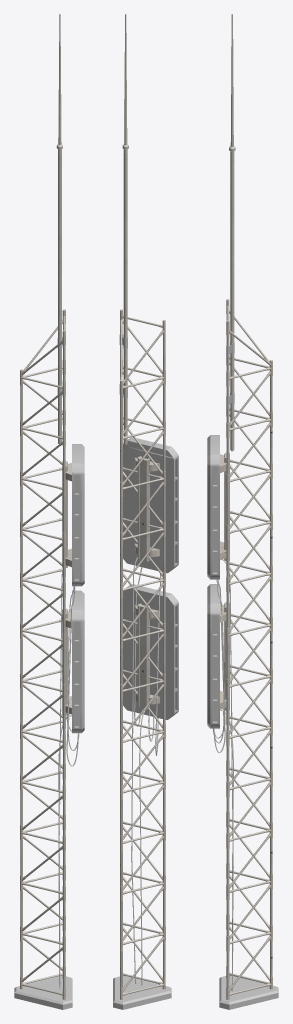
Rendered from KB3D_CBP_Antenna_P.fbx.
The picture shows the model from 3 angles, left to right: view 1: azimuth 90°, elevation 25°; view 2: azimuth 150°, elevation 25°; view 3: azimuth 270°, elevation 25°; orthographic projection.
Visible parts, largest first — view 1: KB3D_CBP_Antenna_P_Main; view 2: KB3D_CBP_Antenna_P_Main; view 3: KB3D_CBP_Antenna_P_Main.
Boxes of the visible parts, x1,y1,x2,y2 form: KB3D_CBP_Antenna_P_Main: (14, 14, 84, 1009); KB3D_CBP_Antenna_P_Main: (113, 14, 178, 1009); KB3D_CBP_Antenna_P_Main: (207, 14, 278, 1009).
Size of the model in its own units: 178 by 2825 by 185.
